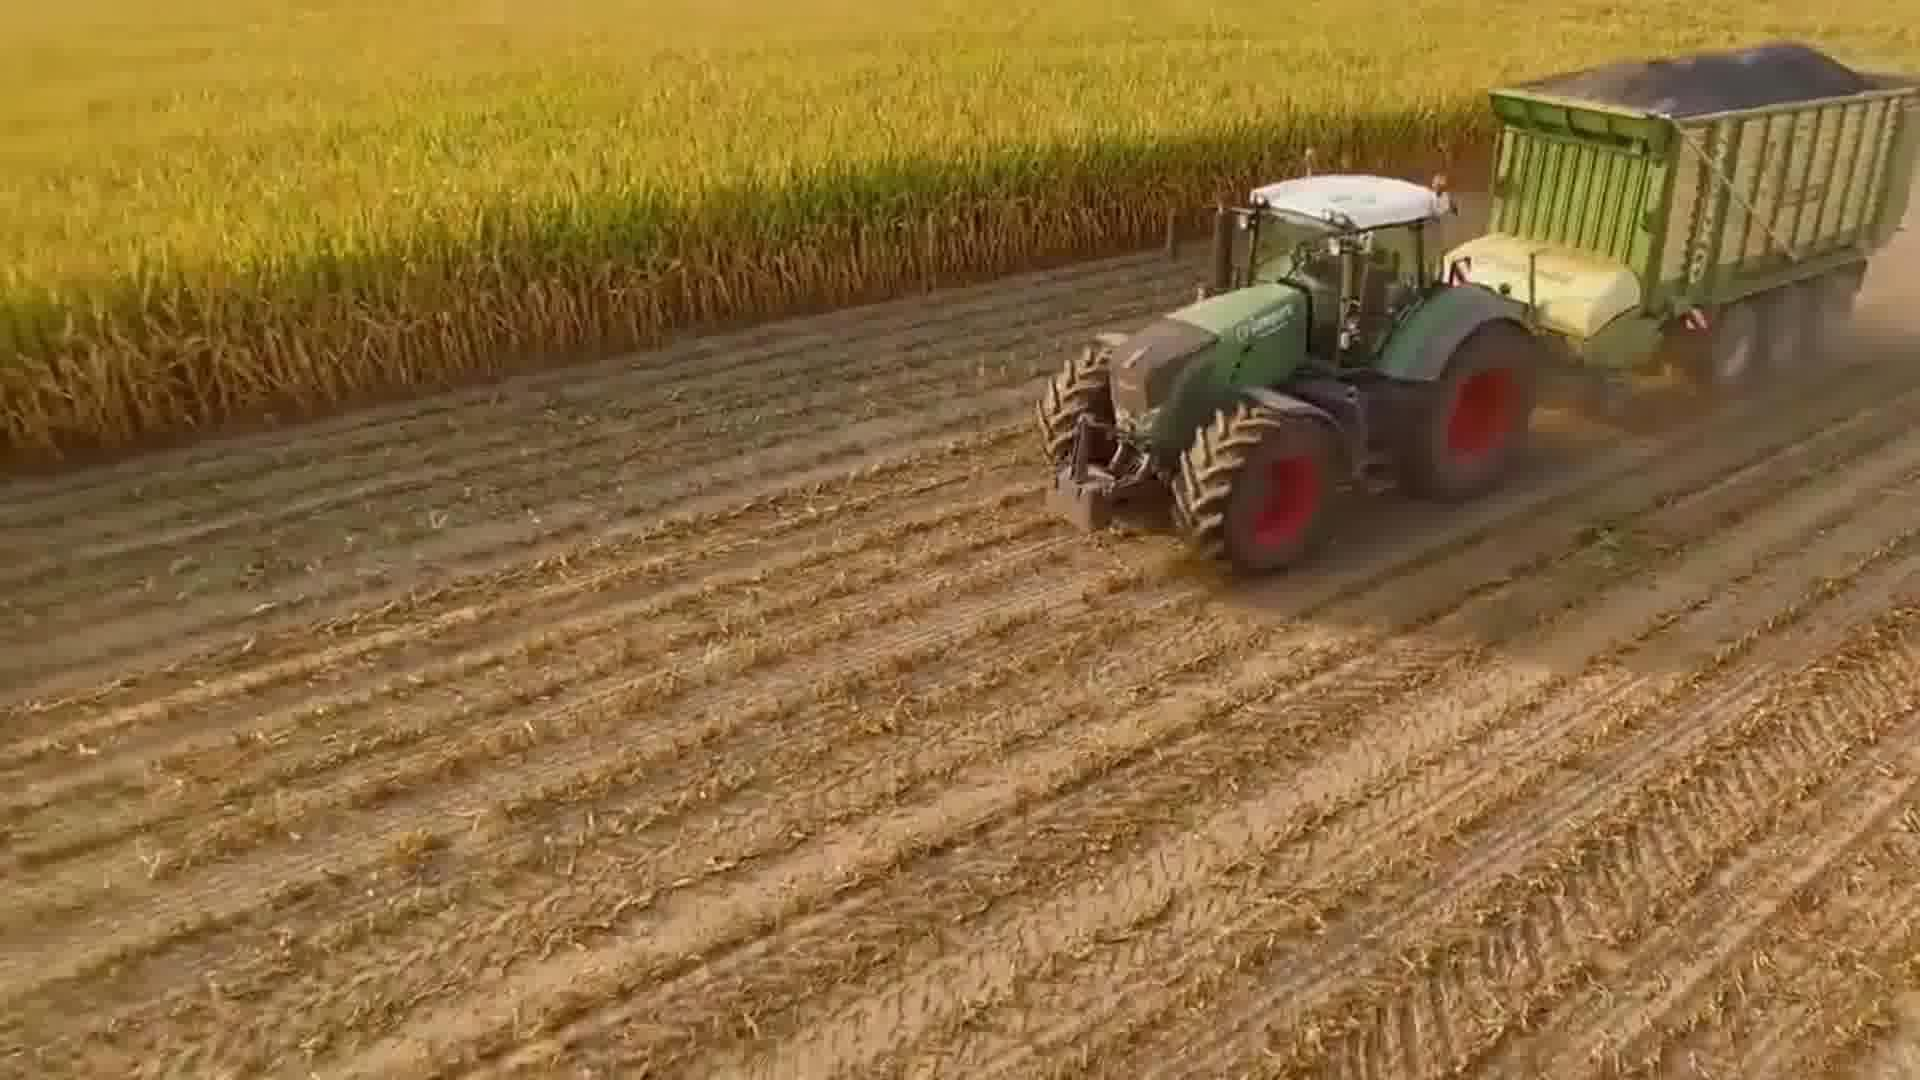tractor: (1033, 144, 1549, 589)
trailer: (1462, 28, 1920, 382)
